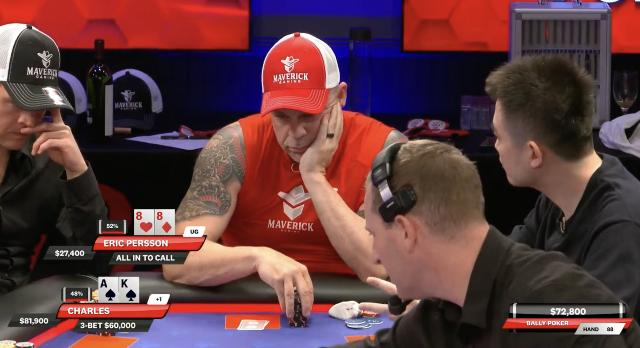8D: (156, 211, 174, 234)
8H: (134, 210, 154, 235)
AS: (98, 278, 120, 302)
KS: (120, 278, 138, 302)
